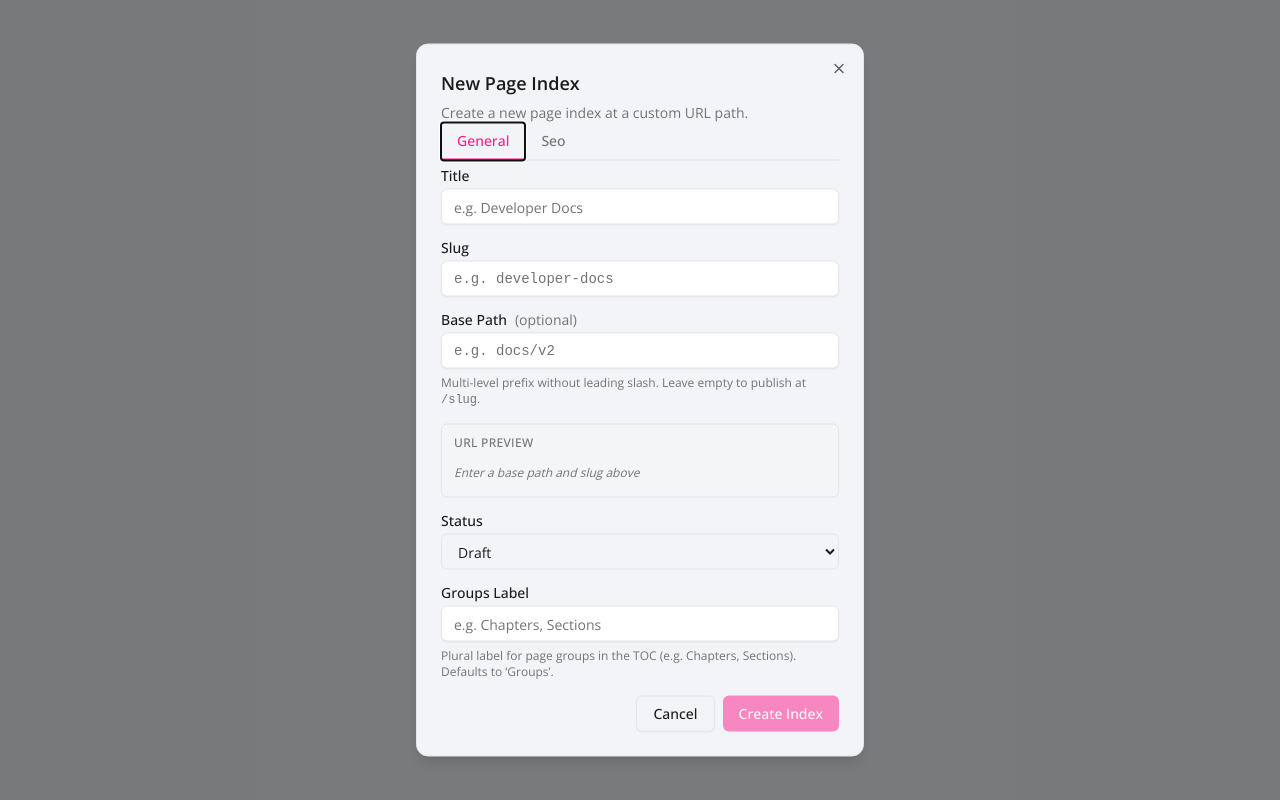
Test: PageIndexFormDialog › shows error when create API returns failure
The image size is (1280, 800).
In the field labelled "Title": (640, 206) [441, 188, 839, 224], type "Test"
Wait 500 ms
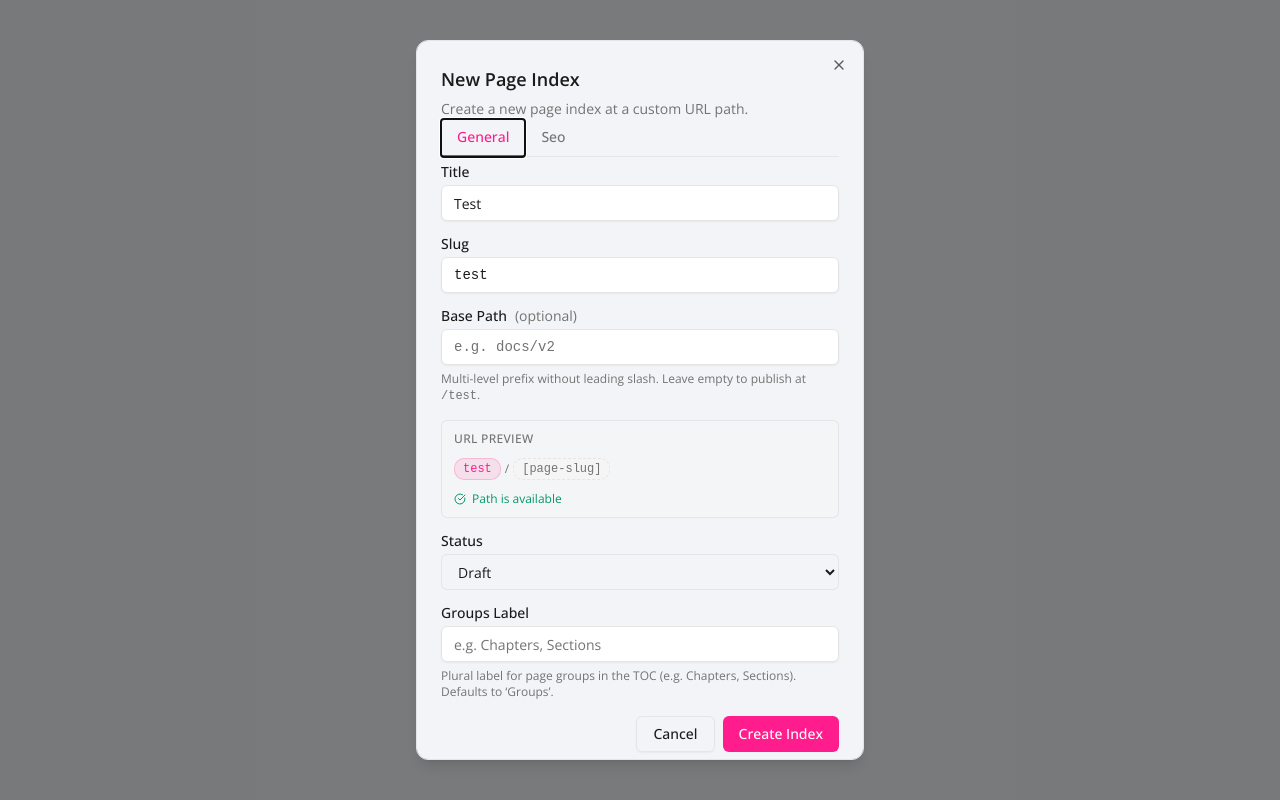
Check: the text "Path is available" is shown, box [454, 490, 562, 507]
Click the button "Create Index": (781, 734) [722, 716, 839, 752]
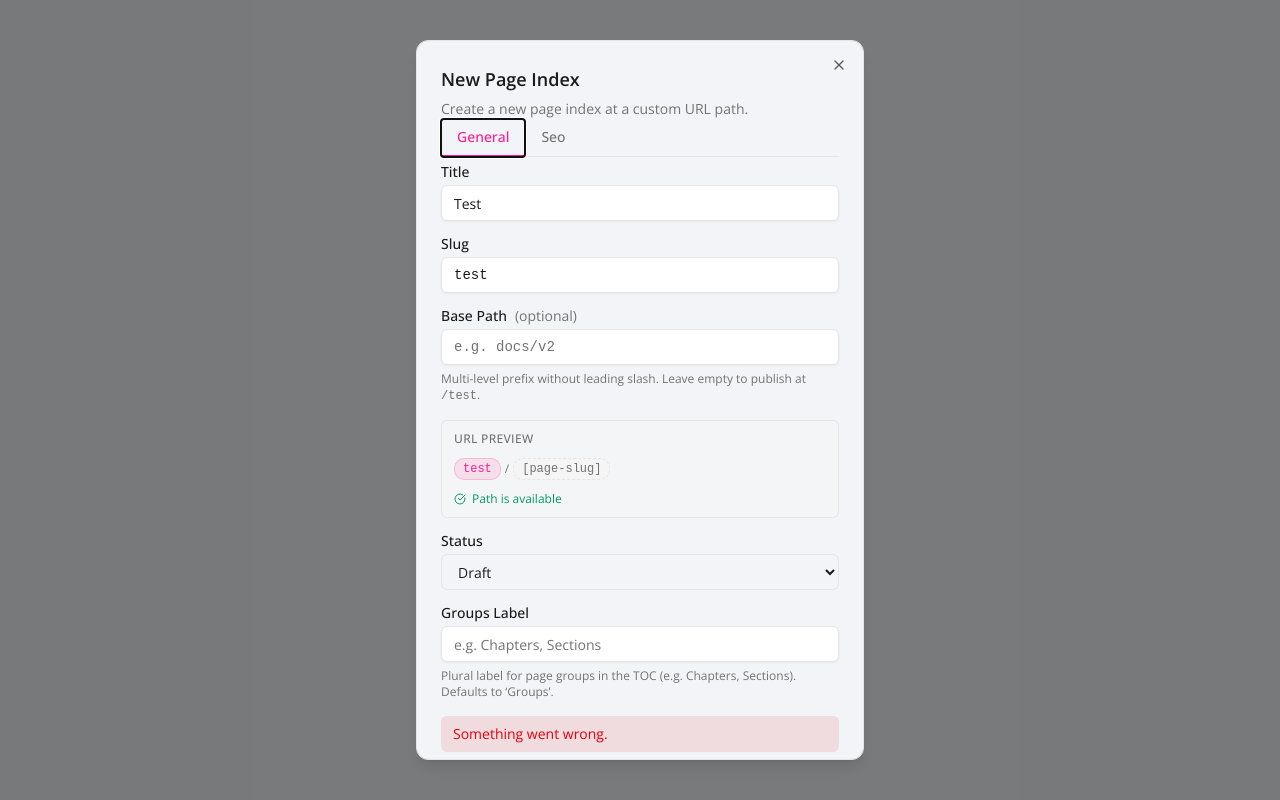
Check: the text "Something went wrong." is shown, box [441, 716, 839, 752]
